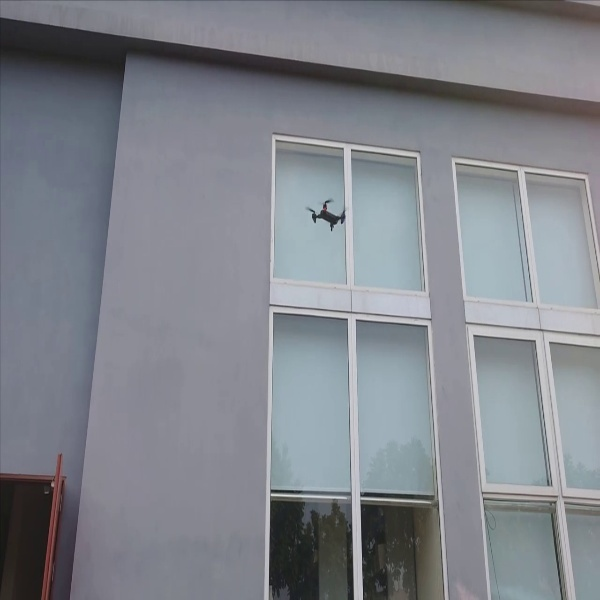drone: (303, 189, 356, 234)
